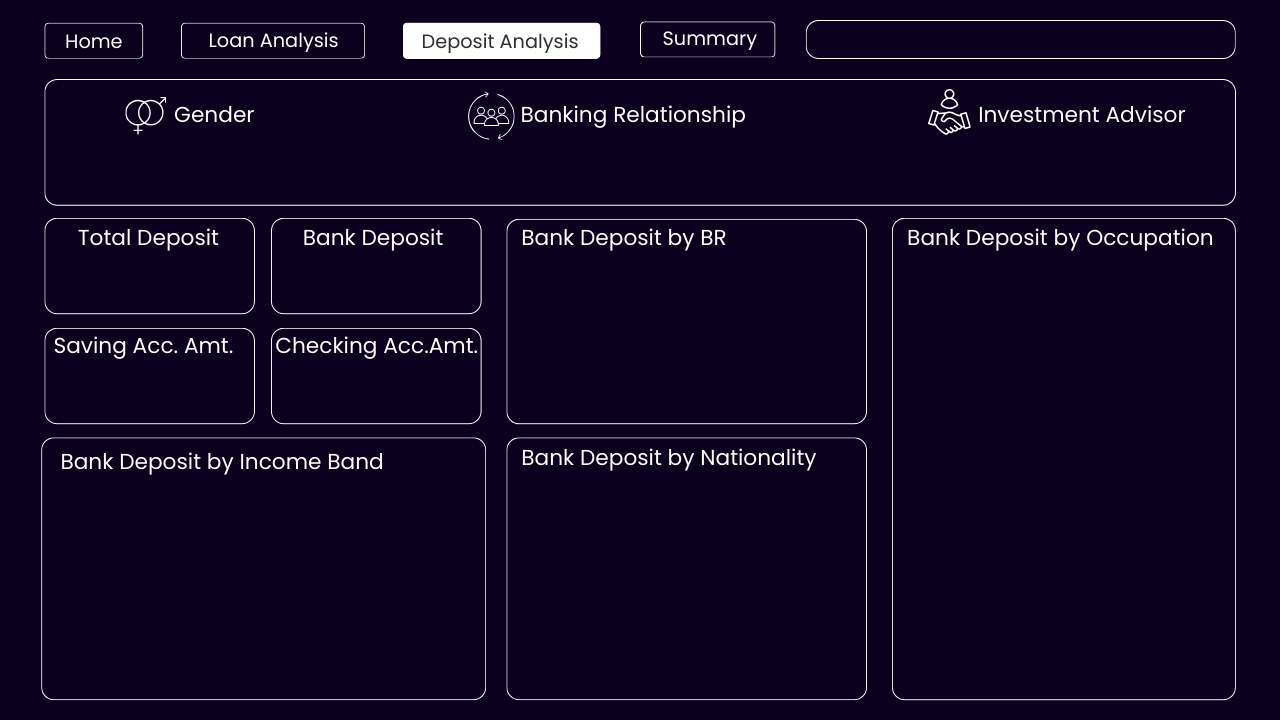

This screenshot's page, from the dashboard's own definition file:
{"tool":"powerbi","page":{"name":"Deposit Analysis","canvas":[1280,720],"ordinal":2},"visuals":[{"type":"actionButton","box":[179,22,187,38],"z":0},{"type":"actionButton","box":[44,22,100,38],"z":1000},{"type":"actionButton","box":[640,22,134,38],"z":2000},{"type":"slicer","fields":{"Values":["banking_case customer.BRId"]},"box":[411,150,439,40],"z":3000},{"type":"slicer","fields":{"Values":["banking_case customer.GenderId"]},"box":[94,150,212,39],"z":4000},{"type":"slicer","fields":{"Values":["banking_case investment_advisor.Investment Advisor"]},"box":[954,143,223,53],"z":5000},{"type":"slicer","fields":{"Values":["banking_case customer.Year of Joining"]},"box":[843,17,360,45],"z":6000},{"type":"card","fields":{"Values":["banking_case customer.Total Deposit"]},"box":[28,242,231,61],"z":7000},{"type":"card","fields":{"Values":["Sum(banking_case customer.Bank Deposits)"]},"box":[250,242,231,61],"z":8000},{"type":"card","fields":{"Values":["Sum(banking_case customer.Saving Accounts)"]},"box":[26,351,231,61],"z":9000},{"type":"card","fields":{"Values":["Sum(banking_case customer.Checking Accounts)"]},"box":[250,351,231,61],"z":10000},{"type":"donutChart","fields":{"Category":["banking_case customer.Income Band"],"Y":["Sum(banking_case customer.Bank Deposits)"]},"box":[68,476,395,213],"z":11000},{"type":"clusteredColumnChart","fields":{"Category":["banking_case customer.BRId"],"Y":["Sum(banking_case customer.Bank Deposits)"]},"box":[514,230,352,205],"z":12000},{"type":"clusteredColumnChart","fields":{"Category":["banking_case customer.Nationality"],"Y":["Sum(banking_case customer.Bank Deposits)"]},"box":[512,476,352,220],"z":13000},{"type":"clusteredColumnChart","fields":{"Category":["banking_case customer.Occupation"],"Y":["Sum(banking_case customer.Bank Deposits)"]},"box":[896,247,340,449],"z":14000}]}

Visuals, with their boxes in screenshot pixels (x1, y1, x2, y2), scaled from the page's 1280x720 canvas onto the 1280x720 screenshot:
actionButton: (x1=179, y1=22, x2=366, y2=60)
actionButton: (x1=44, y1=22, x2=144, y2=60)
actionButton: (x1=640, y1=22, x2=774, y2=60)
slicer - banking_case customer.BRId: (x1=411, y1=150, x2=850, y2=190)
slicer - banking_case customer.GenderId: (x1=94, y1=150, x2=306, y2=189)
slicer - banking_case investment_advisor.Investment Advisor: (x1=954, y1=143, x2=1177, y2=196)
slicer - banking_case customer.Year of Joining: (x1=843, y1=17, x2=1203, y2=62)
card - banking_case customer.Total Deposit: (x1=28, y1=242, x2=259, y2=303)
card - Sum(banking_case customer.Bank Deposits): (x1=250, y1=242, x2=481, y2=303)
card - Sum(banking_case customer.Saving Accounts): (x1=26, y1=351, x2=257, y2=412)
card - Sum(banking_case customer.Checking Accounts): (x1=250, y1=351, x2=481, y2=412)
donutChart - banking_case customer.Income Band x Sum(banking_case customer.Bank Deposits): (x1=68, y1=476, x2=463, y2=689)
clusteredColumnChart - banking_case customer.BRId x Sum(banking_case customer.Bank Deposits): (x1=514, y1=230, x2=866, y2=435)
clusteredColumnChart - banking_case customer.Nationality x Sum(banking_case customer.Bank Deposits): (x1=512, y1=476, x2=864, y2=696)
clusteredColumnChart - banking_case customer.Occupation x Sum(banking_case customer.Bank Deposits): (x1=896, y1=247, x2=1236, y2=696)
